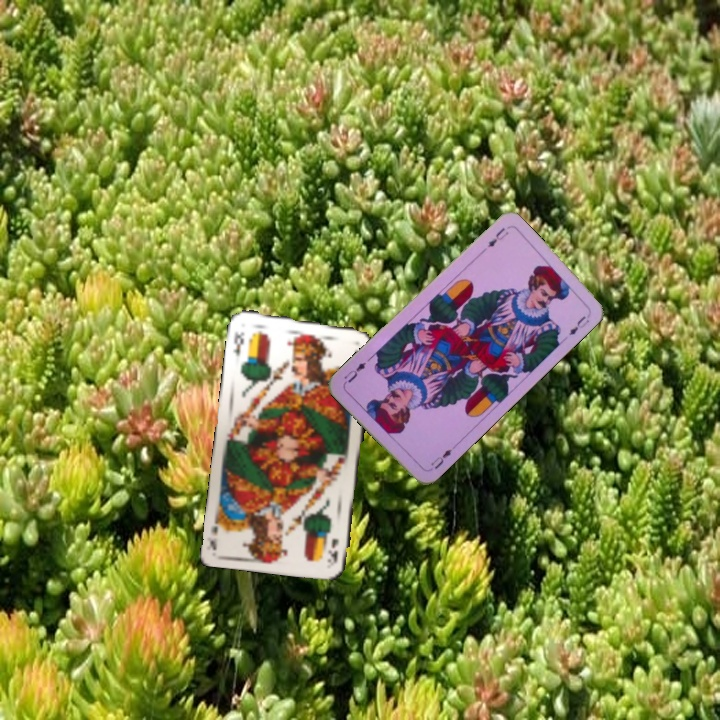EK: (229, 328, 247, 359), (325, 535, 341, 565)
EU: (426, 441, 457, 472), (483, 223, 511, 250)
